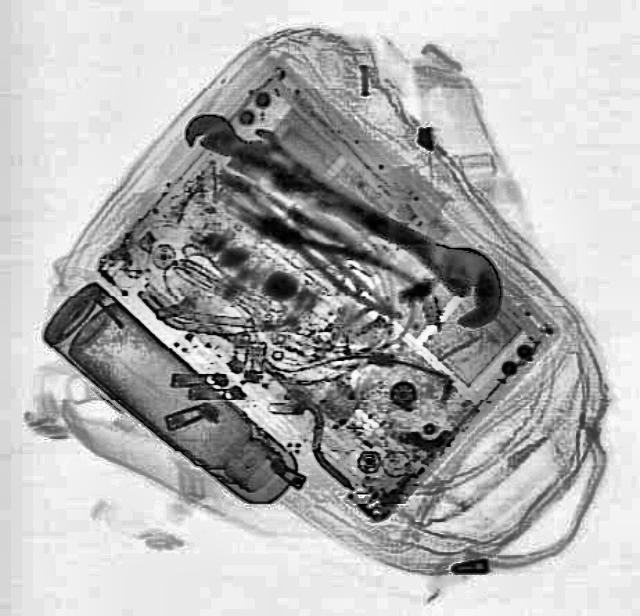Pliers: (224, 186, 426, 322), (209, 162, 393, 296)
Wrench: (223, 121, 522, 336), (171, 100, 331, 218)
